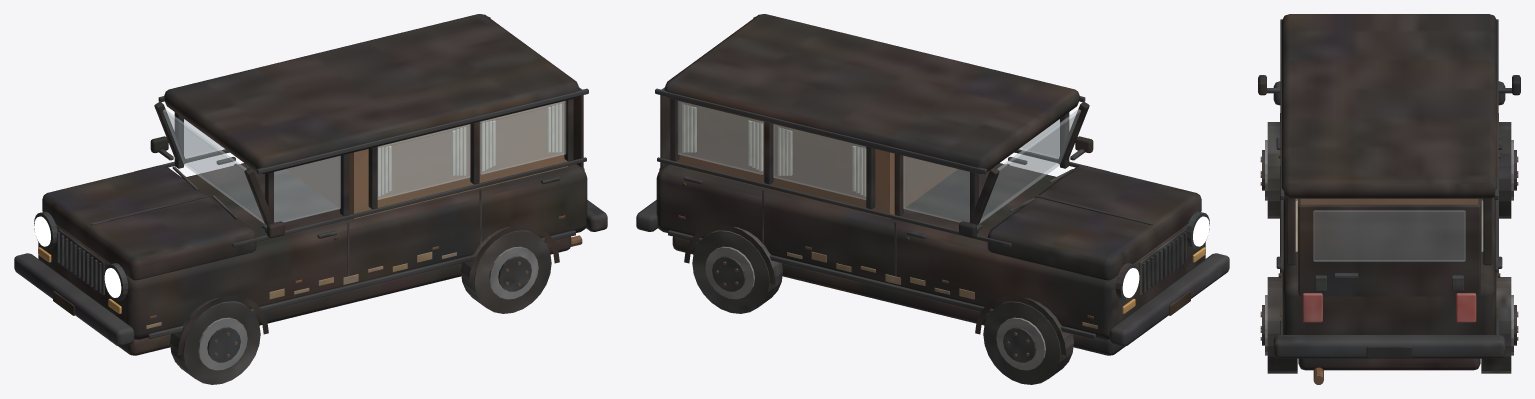
The model's file is CV11_hearse.glb.
The picture shows the model from 3 angles, left to right: view 1: azimuth 30°, elevation 25°; view 2: azimuth 150°, elevation 25°; view 3: azimuth 270°, elevation 25°; orthographic projection. The views are drawn at different scales.
Visible parts, largest first — view 1: Underbody; view 2: Underbody; view 3: Underbody.
Part boxes in pixels (bbox=[...]): Underbody: bbox=[14, 14, 607, 384]; Underbody: bbox=[636, 14, 1229, 384]; Underbody: bbox=[1258, 14, 1520, 384].
Size of the model in its own units: 5.2 by 2.08 by 2.18.
13 materials, 11 textured.
